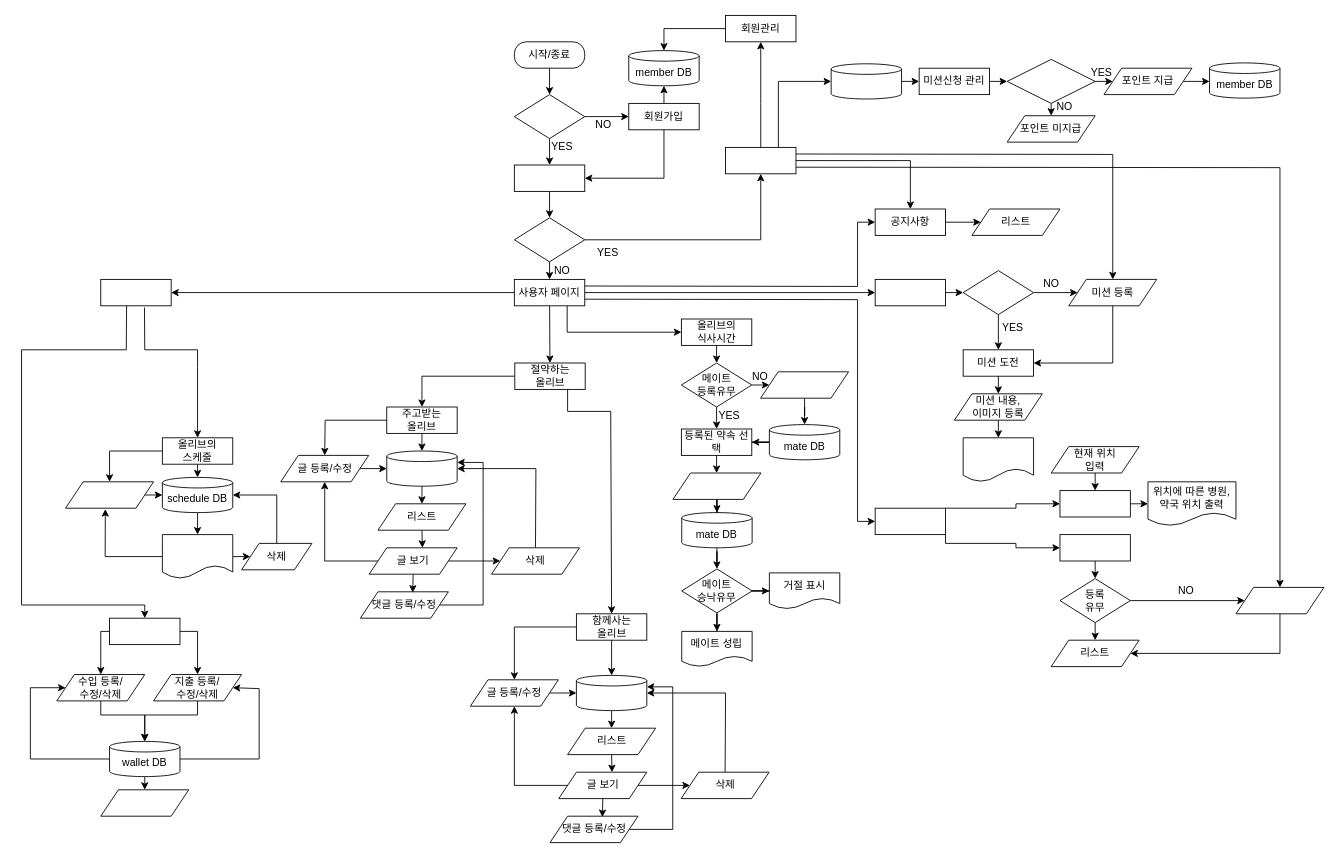
Image size: 1339x858. Some labels were removed from this diagram. The shapes that lost their labels are listed below. From the top down, each one's centre as x and y in pixels, then its label:
pixel 866 81: mission DB
pixel 1050 81: 요구 사항 충족 유무
pixel 549 116: 회원가입 유무
pixel 549 177: 로그인
pixel 760 160: 관리자 페이지
pixel 549 239: 관리자 유무
pixel 135 292: 올리브 집사
pixel 910 292: 올리브의 도전
pixel 998 292: 미션 유무
pixel 804 384: 메이트 등록
pixel 421 468: junggo DB
pixel 998 459: 미션 참여 완료
pixel 109 494: 스케줄 등록/ 수정
pixel 716 485: 메이트 참여 등록
pixel 1094 503: 올리브의 응급실
pixel 910 521: 올리브의 동의보감
pixel 197 556: 달력 화면
pixel 1094 547: 올리브의 구급상자
pixel 1279 600: 글 등록
pixel 144 631: 올리브의 지갑사정
pixel 611 693: auction DB
pixel 144 802: 수입-지출 통계
